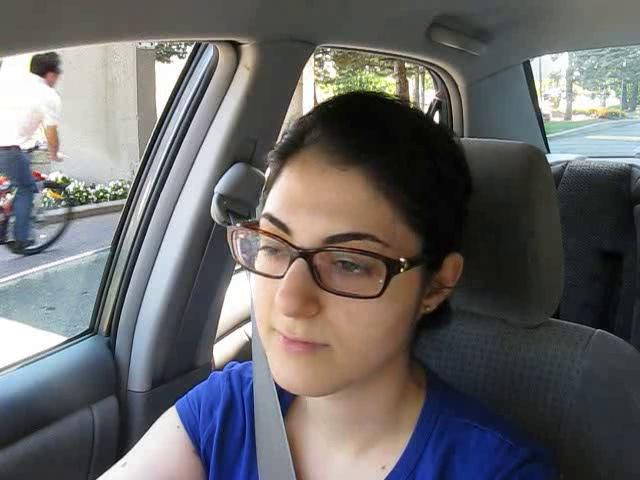close_eyeL: (244, 227, 300, 273)
close_eyeR: (315, 243, 390, 295)
no_yawn: (253, 323, 343, 364)
